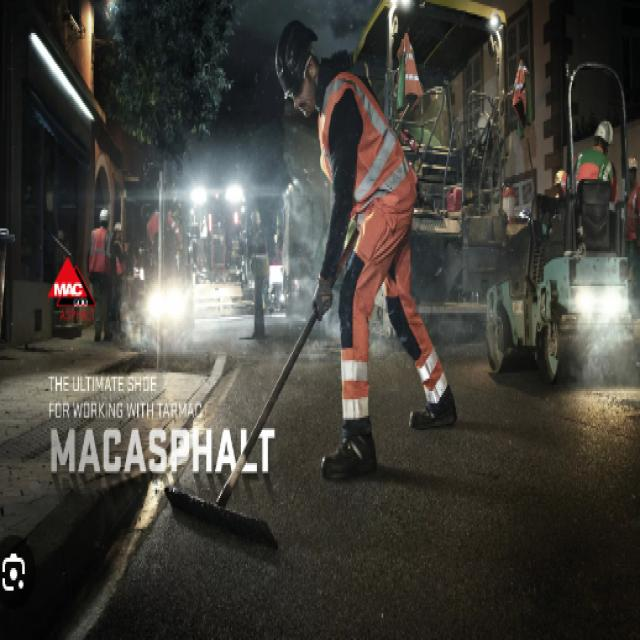boots: (320, 382, 461, 482)
helmet: (274, 15, 321, 110), (595, 115, 615, 154), (554, 168, 572, 195), (626, 152, 639, 184), (250, 207, 264, 230), (98, 204, 110, 230), (113, 217, 125, 241)
vest: (312, 70, 421, 228), (88, 223, 113, 280), (250, 229, 272, 284), (113, 239, 129, 281)
